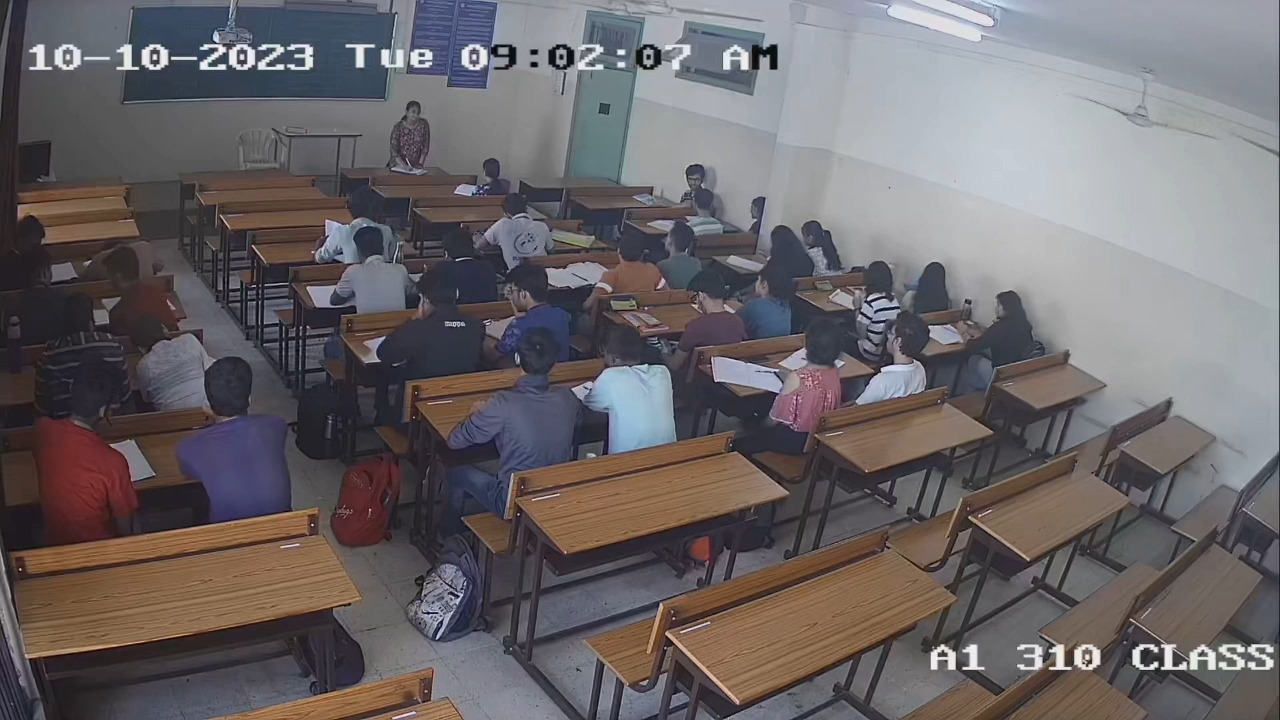cell-phones: (608, 296, 639, 311), (813, 279, 835, 293), (773, 368, 790, 384)
person: (769, 320, 841, 416), (676, 272, 749, 347), (850, 260, 902, 320)
